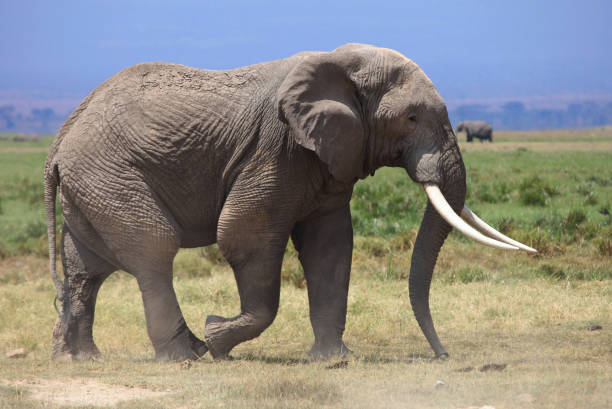africanelephant: (282, 55, 533, 260)
